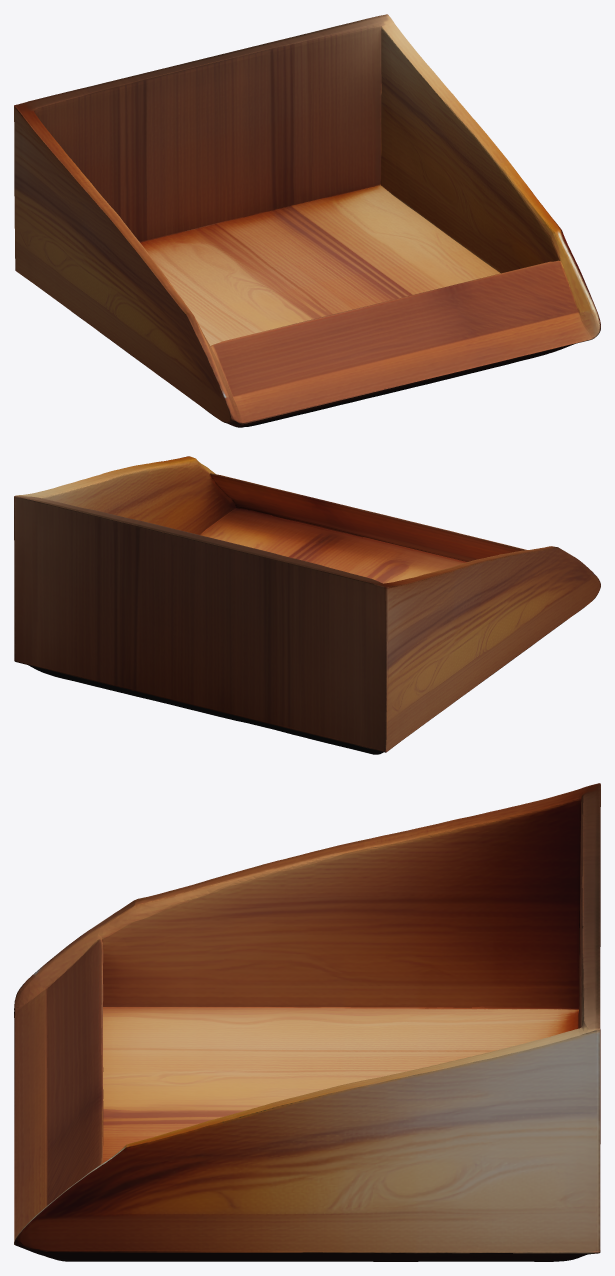
File: wooden-file-holder-futuristic.jpeg.glb
3 renders of one model, top to bottom at view 1: azimuth 30°, elevation 25°; view 2: azimuth 150°, elevation 25°; view 3: azimuth 270°, elevation 25°, orthographic. The views are drawn at different scales.
Visible parts, largest first — view 1: world; view 2: world; view 3: world.
Part boxes in pixels (bbox=[...]): world: bbox=[14, 14, 600, 427]; world: bbox=[14, 456, 600, 754]; world: bbox=[14, 783, 600, 1261].
Size of the model in its own units: 0.9976 by 0.486 by 1.
1 material, 1 textured.
